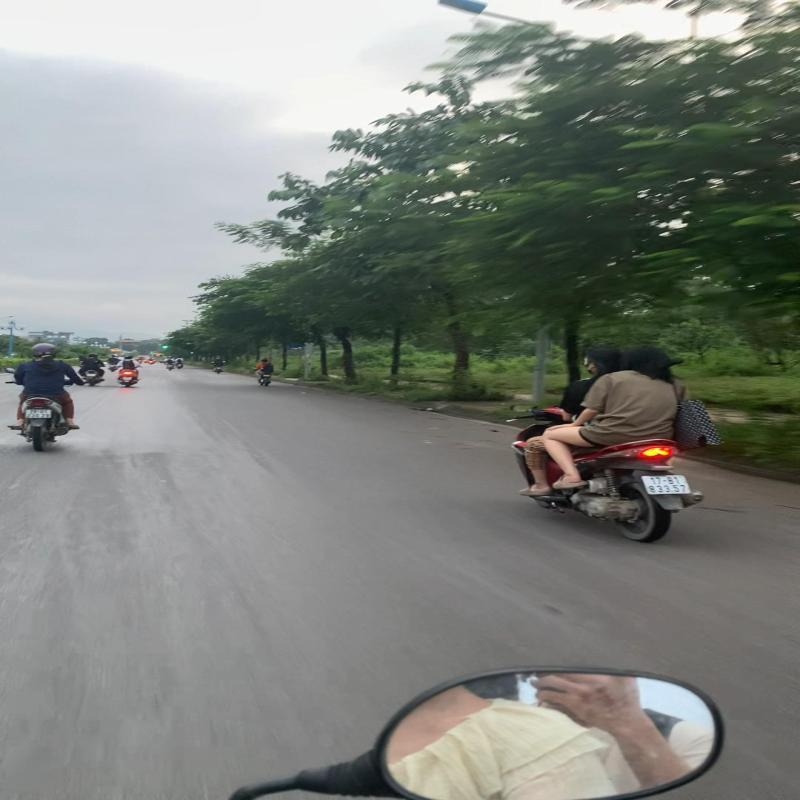licenseplate: (642, 473, 691, 496)
motorcyclist: (505, 340, 730, 546)
nohelmet: (613, 343, 677, 376), (580, 342, 625, 374)
